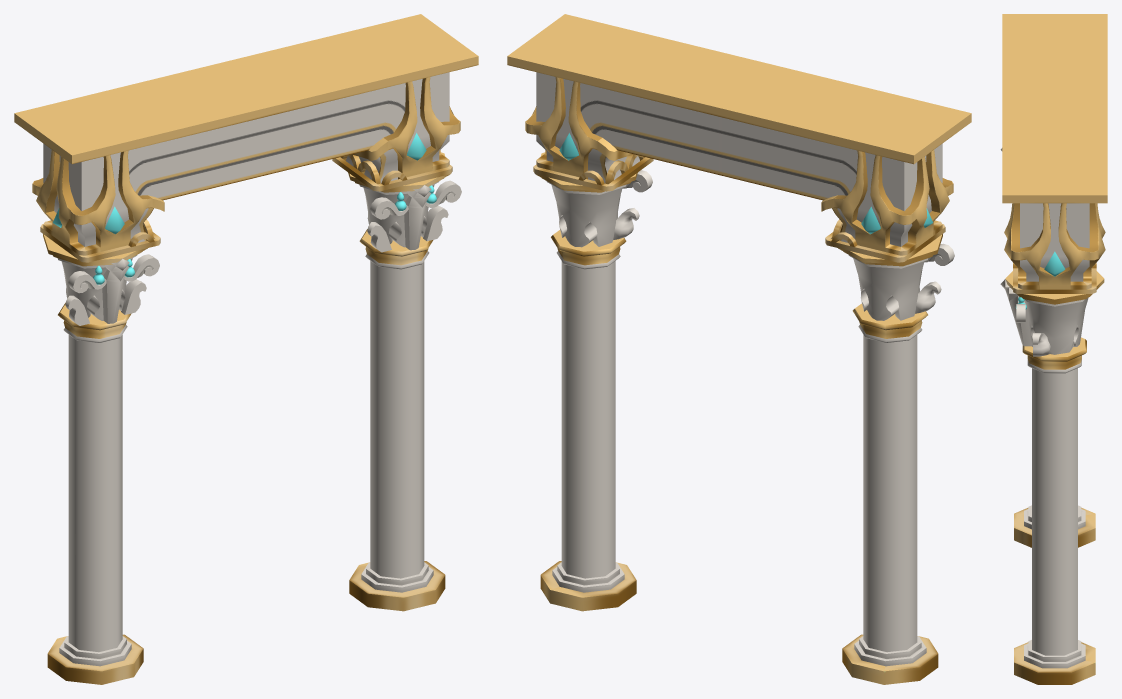
Rendered from Pillar_test_003.FBX.
3 views of the same model, side by side, from view 1: azimuth 30°, elevation 25°; view 2: azimuth 150°, elevation 25°; view 3: azimuth 270°, elevation 25° (orthographic). The views are drawn at different scales.
Parts seen in each view (by area): view 1: Pillar; view 2: Pillar; view 3: Pillar.
Part boxes in pixels (x1,y1,x2,y2): Pillar: (14, 14, 478, 684); Pillar: (507, 14, 971, 684); Pillar: (1000, 14, 1107, 684).
Size of the model in its own units: 254 by 324 by 63.35.
